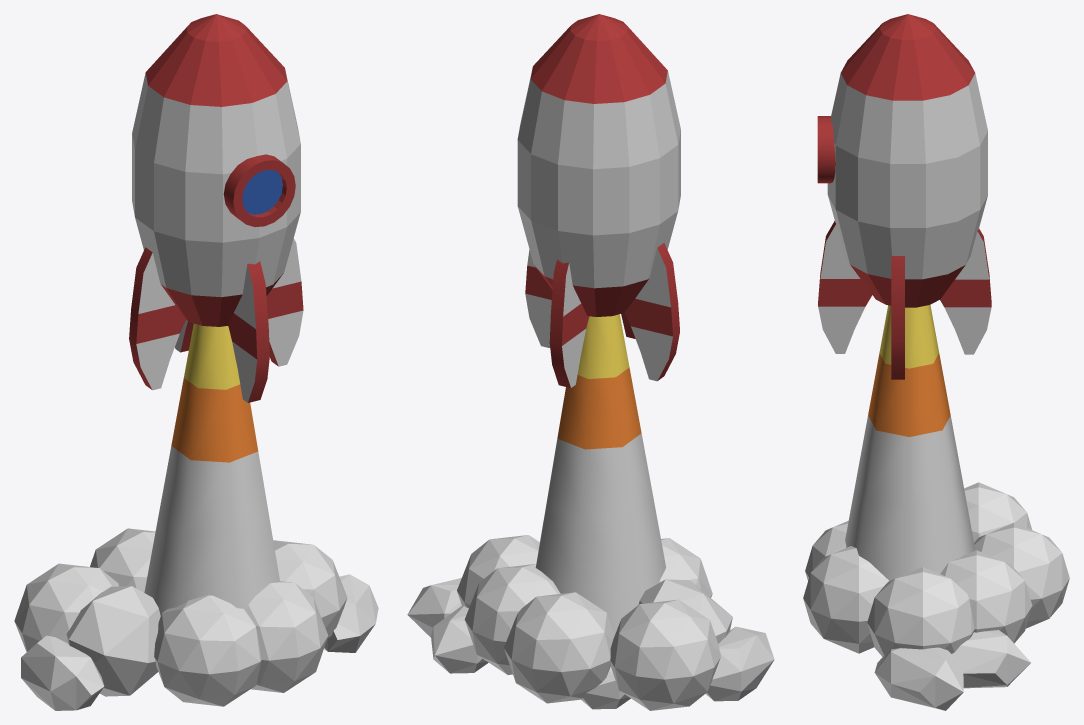
The model's file is 42PQqEaxb-P.glb.
3 renders of one model, left to right at view 1: azimuth 30°, elevation 25°; view 2: azimuth 150°, elevation 25°; view 3: azimuth 270°, elevation 25°, orthographic. The views are drawn at different scales.
Visible parts, largest first — view 1: Cone001; view 2: Cone001; view 3: Cone001.
Part boxes in pixels (x1,y1,x2,y2): Cone001: [14, 14, 378, 710]; Cone001: [407, 14, 774, 710]; Cone001: [803, 14, 1069, 710].
Size of the model in its own units: 0.5367 by 1 by 0.3858.
